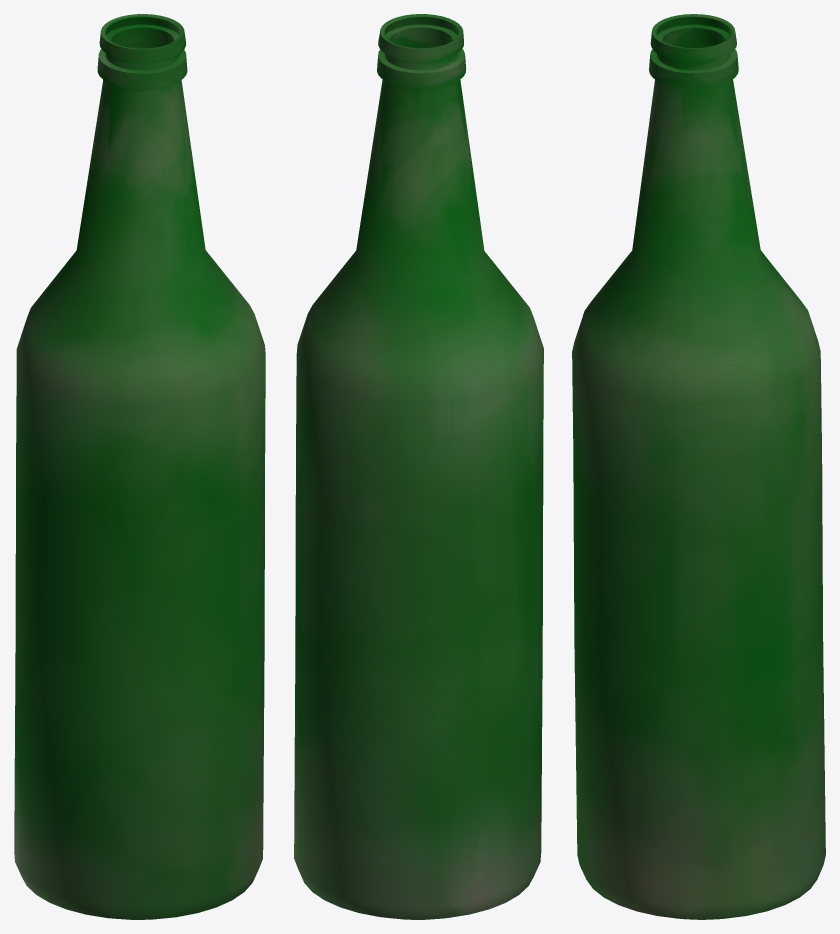
The model's file is bottle.fbx.
The picture shows the model from 3 angles, left to right: view 1: azimuth 30°, elevation 25°; view 2: azimuth 150°, elevation 25°; view 3: azimuth 270°, elevation 25°; orthographic projection.
Parts seen in each view (by area): view 1: Circle.001; view 2: Circle.001; view 3: Circle.001.
Boxes of the visible parts, box(x1,y1,x2,y2) form: Circle.001: box(14, 14, 265, 919); Circle.001: box(294, 14, 543, 919); Circle.001: box(572, 14, 825, 919).
Size of the model in its own units: 208 by 786 by 212.
Materials: 1 (1 with a texture image).
